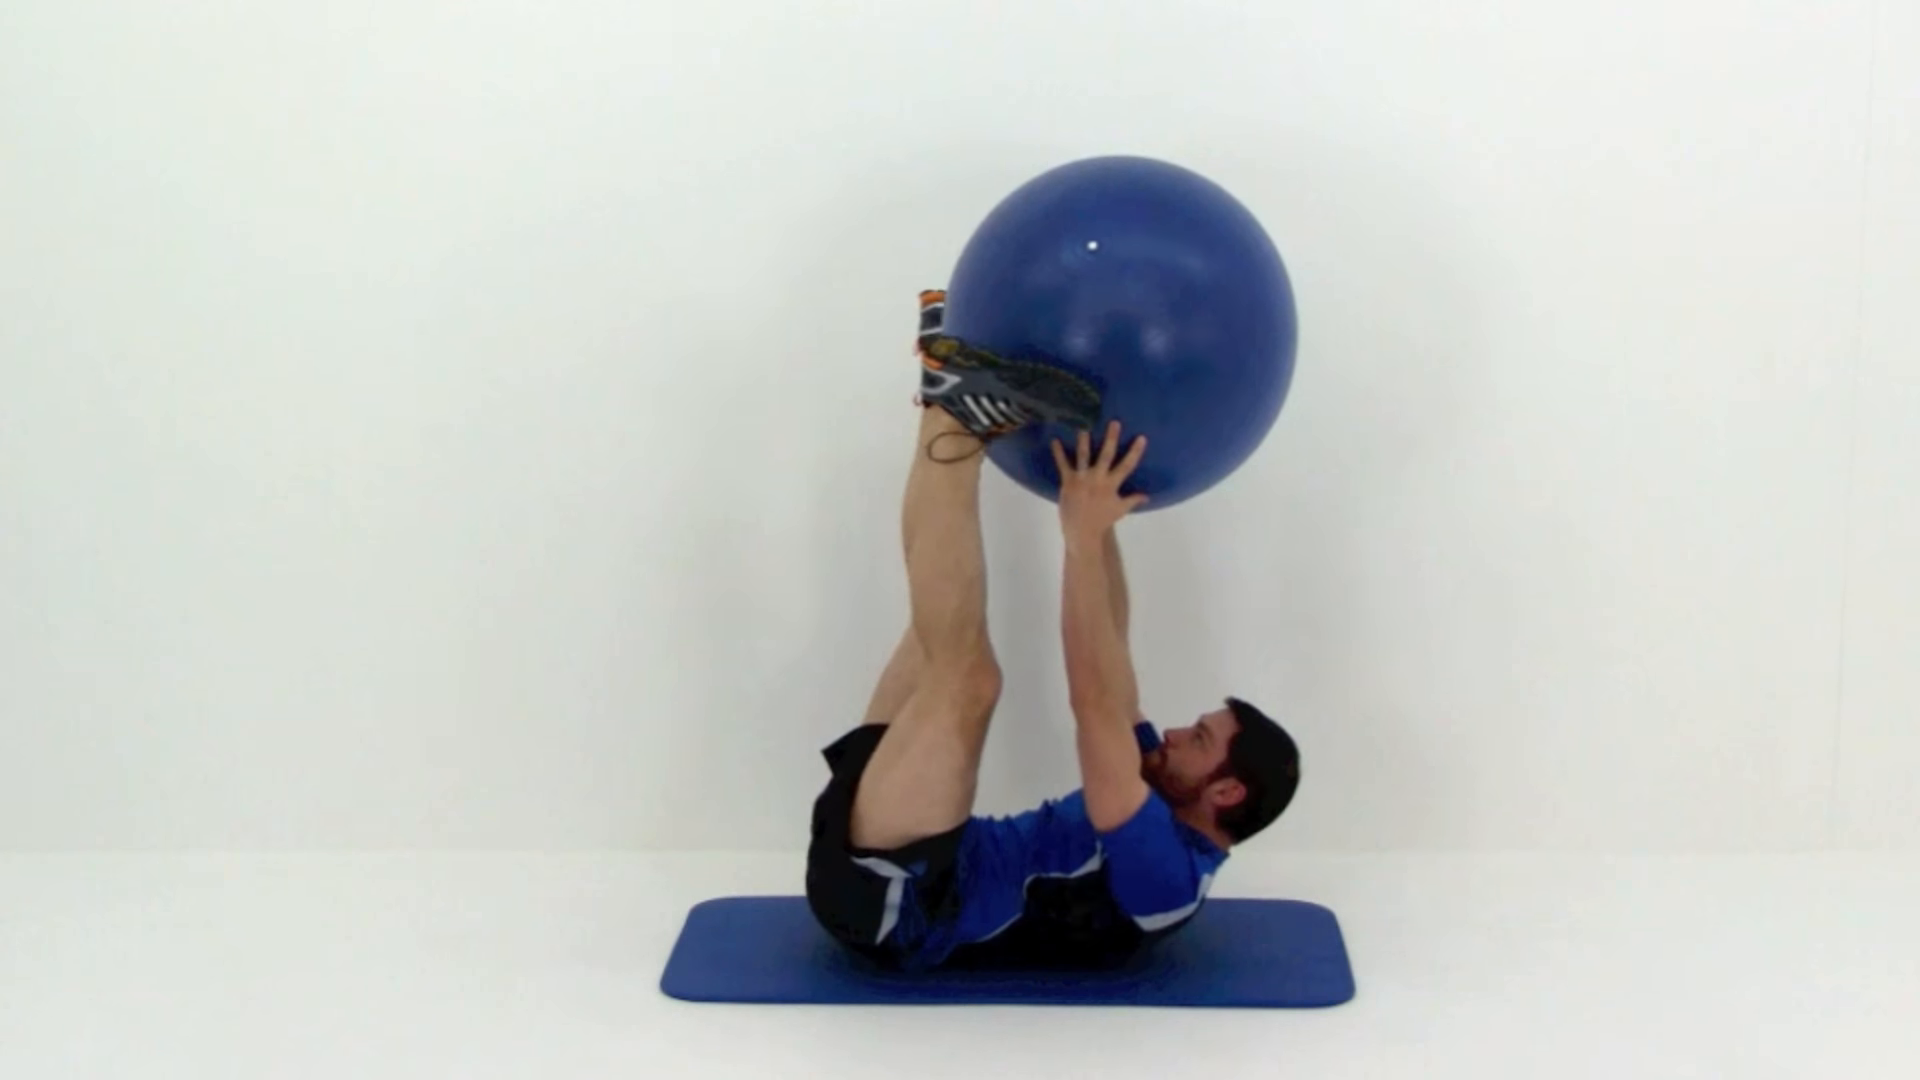yogaball: (943, 146, 1311, 524)
